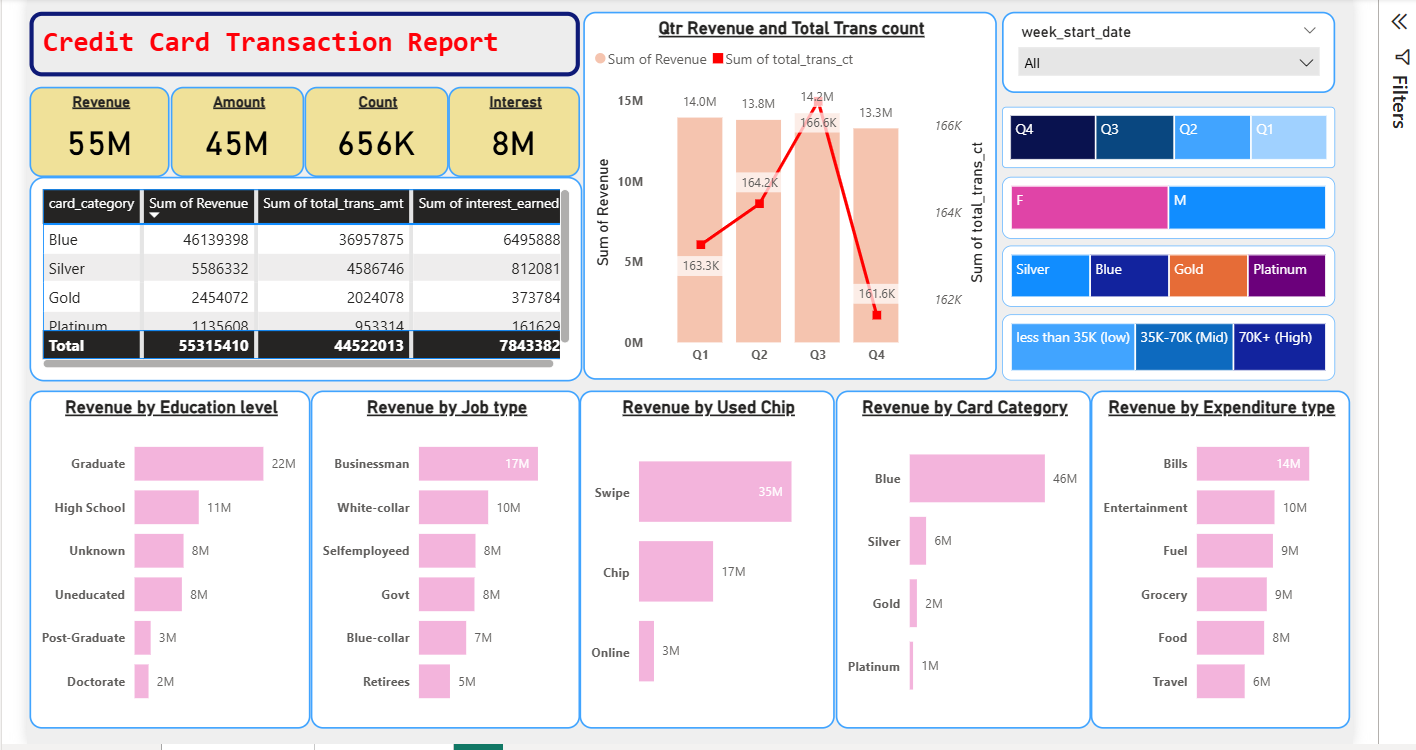

The page's visual inventory and layout, read from the dashboard file:
{"tool":"powerbi","page":{"name":"CC_Transaction","canvas":[1280,720],"ordinal":0},"visuals":[{"type":"textbox","box":[2.7,13.6,530.9,62.7],"z":0},{"type":"lineStackedColumnComboChart","title":"Qtr Revenue and Total Trans count","fields":{"Category":["public cc_detail.qtr"],"Y":["Sum(public cc_detail.Revenue)"],"Y2":["Sum(public cc_detail.total_trans_ct)"]},"box":[536.4,13.6,399.1,355.5],"z":1000},{"type":"barChart","title":"Revenue by Expenditure type","fields":{"Category":["public cc_detail.exp_type"],"Y":["Sum(public cc_detail.Revenue)"]},"box":[1026.4,379.1,250,326.4],"z":2000},{"type":"barChart","title":"Revenue by Education level","fields":{"Y":["Sum(public cc_detail.Revenue)"],"Category":["public cust_detail.education_level"]},"box":[2.7,379.1,270.9,326.4],"z":3000},{"type":"barChart","title":"Revenue by Job type","fields":{"Y":["Sum(public cc_detail.Revenue)"],"Category":["public cust_detail.customer_job"]},"box":[273.6,379.1,260,326.4],"z":4000},{"type":"barChart","title":"Revenue by Card Category","fields":{"Y":["Sum(public cc_detail.Revenue)"],"Category":["public cc_detail.card_category"]},"box":[780,379.1,246.4,326.4],"z":5000},{"type":"barChart","title":"Revenue by Used Chip","fields":{"Y":["Sum(public cc_detail.Revenue)"],"Category":["public cc_detail.use_chip"]},"box":[533.6,379.1,246.4,326.4],"z":6000},{"type":"tableEx","fields":{"Values":["public cc_detail.card_category","Sum(public cc_detail.Revenue)","Sum(public cc_detail.total_trans_amt)","Sum(public cc_detail.interest_earned)"]},"box":[2.7,172.7,533.6,197.3],"z":7000},{"type":"card","title":"Revenue","fields":{"Values":["Sum(public cc_detail.Revenue)"]},"box":[2.7,85.5,135.5,87.3],"z":8000},{"type":"card","title":"Amount","fields":{"Values":["Sum(public cc_detail.total_trans_amt)"]},"box":[138.2,85.5,129.1,87.3],"z":9000},{"type":"card","title":"Interest","fields":{"Values":["Sum(public cc_detail.interest_earned)"]},"box":[406.4,85.5,127.3,87.3],"z":10000},{"type":"card","title":"Count","fields":{"Values":["Sum(public cc_detail.total_trans_ct)"]},"box":[267.3,85.5,139.1,87.3],"z":11000},{"type":"slicer","fields":{"Values":["public cc_detail.week_start_date"]},"box":[940.9,13.6,321.8,78.2],"z":12000},{"type":"treemap","fields":{"Group":["public cc_detail.qtr"],"Values":["CountNonNull(public cc_detail.client_num)"]},"box":[940.9,104.5,321.8,59.1],"z":13000},{"type":"treemap","fields":{"Group":["public cust_detail.gender"],"Values":["CountNonNull(public cc_detail.client_num)"]},"box":[940.9,172.7,321.8,60],"z":14000},{"type":"treemap","fields":{"Group":["public cc_detail.card_category"],"Values":["CountNonNull(public cc_detail.client_num)"]},"box":[940.9,239.1,321.8,59.1],"z":15000},{"type":"treemap","fields":{"Group":["public cust_detail.IncomeGroup"],"Values":["CountNonNull(public cc_detail.client_num)"]},"box":[940.9,305.5,321.8,63.6],"z":16000}]}

Visuals, with their boxes in screenshot pixels (x1, y1, x2, y2):
textbox: <box>32,32,577,97</box>
"Qtr Revenue and Total Trans count" lineStackedColumnComboChart: <box>579,32,989,397</box>
"Revenue by Expenditure type" barChart: <box>1082,407,1338,742</box>
"Revenue by Education level" barChart: <box>32,407,310,742</box>
"Revenue by Job type" barChart: <box>310,407,577,742</box>
"Revenue by Card Category" barChart: <box>829,407,1082,742</box>
"Revenue by Used Chip" barChart: <box>577,407,829,742</box>
tableEx - public cc_detail.card_category x Sum(public cc_detail.Revenue): <box>32,196,579,398</box>
"Revenue" card: <box>32,106,171,196</box>
"Amount" card: <box>171,106,304,196</box>
"Interest" card: <box>446,106,577,196</box>
"Count" card: <box>304,106,446,196</box>
slicer - public cc_detail.week_start_date: <box>994,32,1324,113</box>
treemap - public cc_detail.qtr x CountNonNull(public cc_detail.client_num): <box>994,126,1324,186</box>
treemap - public cust_detail.gender x CountNonNull(public cc_detail.client_num): <box>994,196,1324,257</box>
treemap - public cc_detail.card_category x CountNonNull(public cc_detail.client_num): <box>994,264,1324,324</box>
treemap - public cust_detail.IncomeGroup x CountNonNull(public cc_detail.client_num): <box>994,332,1324,397</box>
